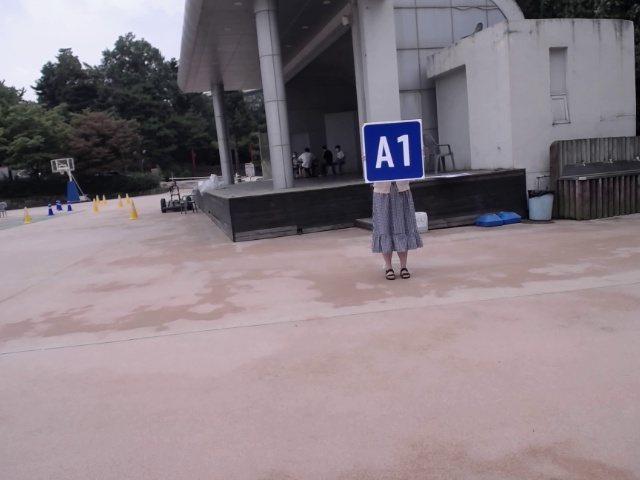delivery_a1: (363, 120, 424, 183)
